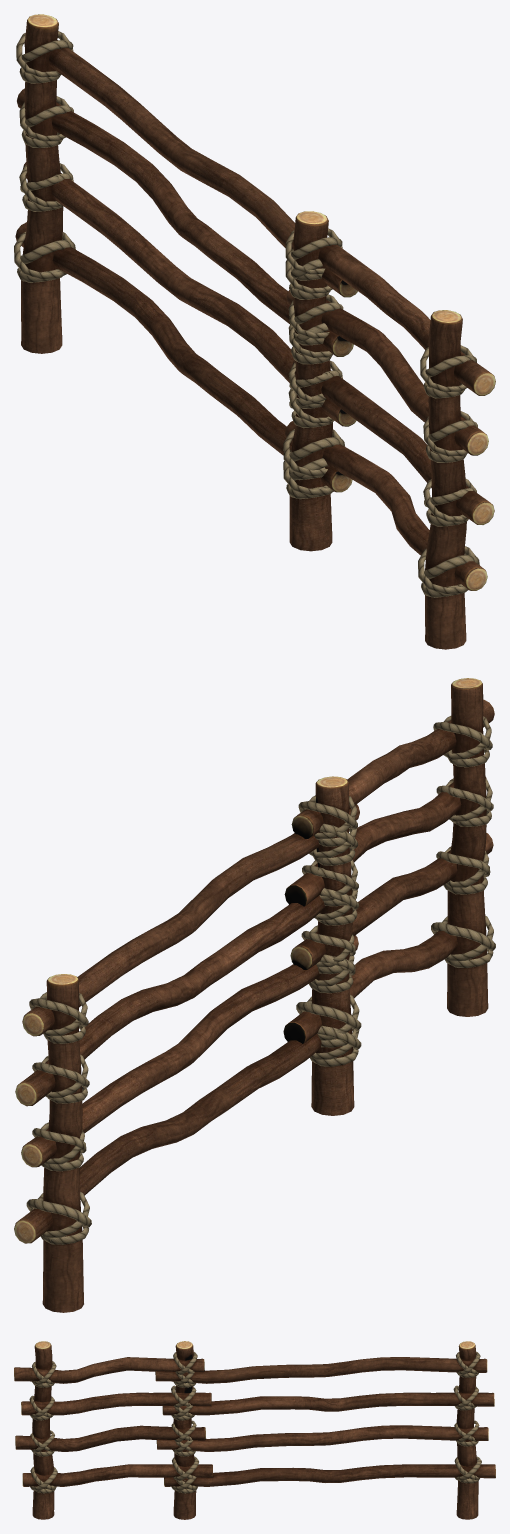
Rendered from wooden_fence_game_ready_asset.glb.
The picture shows the model from 3 angles, top to bottom: view 1: azimuth 30°, elevation 25°; view 2: azimuth 150°, elevation 25°; view 3: azimuth 270°, elevation 25°; orthographic projection. The views are drawn at different scales.
Visible parts, largest first — view 1: Fence1.017, Fence1.018, Fence1.020; view 2: Fence1.017, Fence1.018, Fence1.020; view 3: Fence1.017, Fence1.018, Fence1.020.
Boxes of the visible parts, x1=… form: Fence1.017: x1=14, y1=31, x2=357, y2=551; Fence1.018: x1=283, y1=228, x2=495, y2=649; Fence1.020: x1=21, y1=14, x2=63, y2=353; Fence1.017: x1=14, y1=776, x2=361, y2=1244; Fence1.018: x1=283, y1=678, x2=495, y2=1047; Fence1.020: x1=42, y1=974, x2=83, y2=1312; Fence1.017: x1=155, y1=1341, x2=495, y2=1519; Fence1.018: x1=14, y1=1341, x2=213, y2=1519; Fence1.020: x1=456, y1=1341, x2=478, y2=1519.
Size of the model in its own units: 0.2584 by 1.33 by 3.41.
Materials: 3 (3 with a texture image).
